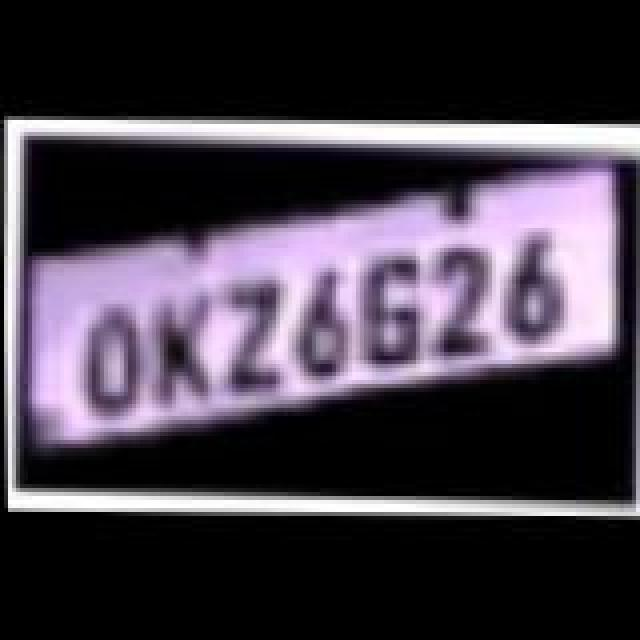2: (408, 244, 512, 364)
6: (482, 228, 590, 348), (276, 268, 372, 384)
G: (340, 256, 444, 376)
K: (130, 294, 238, 410)
O: (60, 308, 156, 420)
Z: (202, 276, 310, 396)
